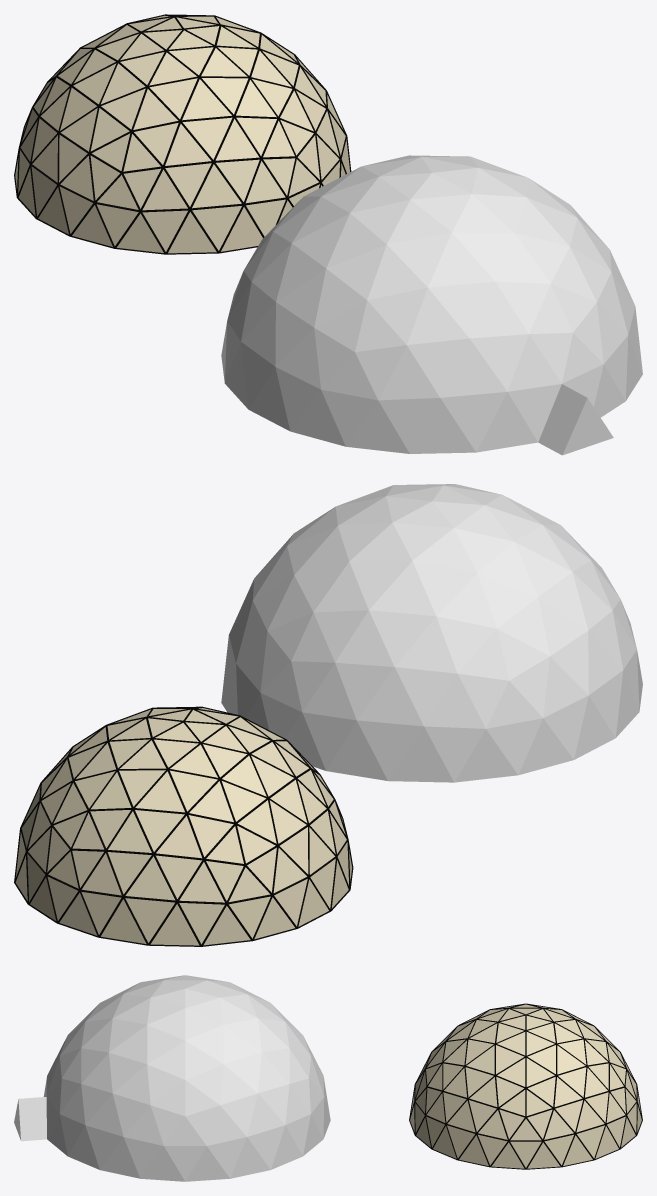
File: Dome_Strut_Test.fbx
3 views of the same model, one above another, from view 1: azimuth 30°, elevation 25°; view 2: azimuth 150°, elevation 25°; view 3: azimuth 270°, elevation 25° (orthographic). The views are drawn at different scales.
Parts seen in each view (by area): view 1: Icosphere.001, Icosphere; view 2: Icosphere.001, Icosphere; view 3: Icosphere.001, Icosphere.
Part boxes in pixels (x1,y1,x2,y2): Icosphere.001: (221, 155, 642, 455); Icosphere: (14, 14, 351, 254); Icosphere.001: (221, 484, 642, 782); Icosphere: (14, 706, 353, 946); Icosphere.001: (14, 975, 330, 1181); Icosphere: (409, 1003, 642, 1169).
Size of the model in its own units: 5000 by 2504 by 10820.
